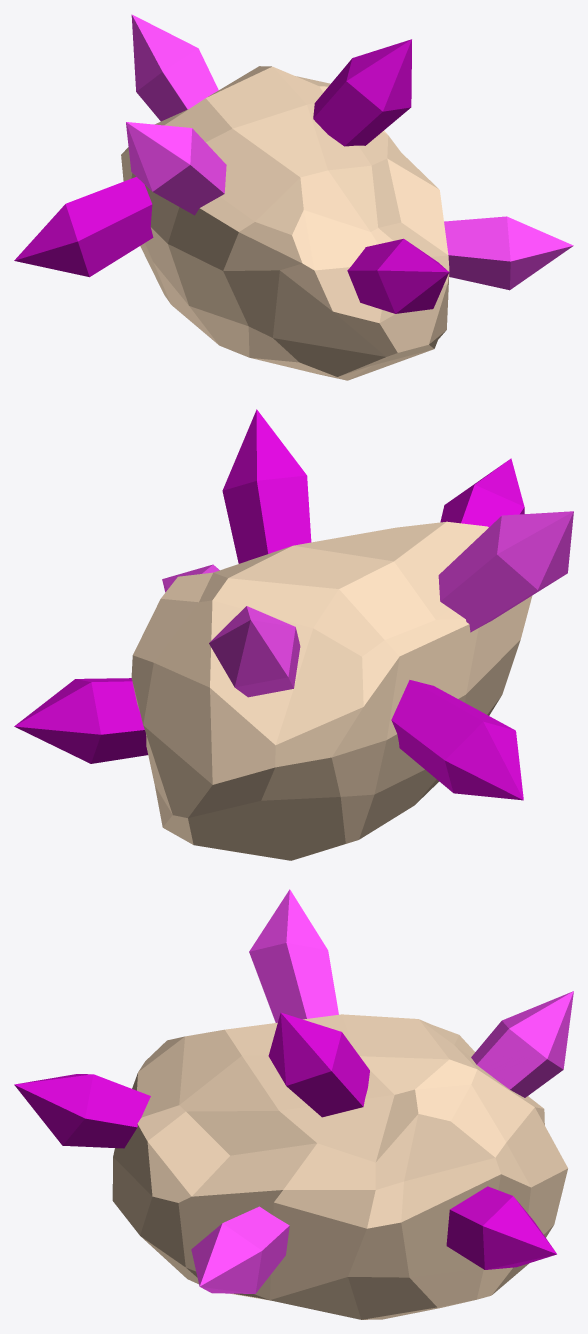
File: MineralNode_01_B.fbx
3 views of the same model, one above another, from view 1: azimuth 30°, elevation 25°; view 2: azimuth 150°, elevation 25°; view 3: azimuth 270°, elevation 25° (orthographic). The views are drawn at different scales.
Parts seen in each view (by area): view 1: MineralNode_01_B; view 2: MineralNode_01_B; view 3: MineralNode_01_B.
Part boxes in pixels (<box>): MineralNode_01_B: <box>14,14,573,380</box>; MineralNode_01_B: <box>14,409,573,860</box>; MineralNode_01_B: <box>14,889,573,1319</box>.
Bounding box in the file's own units: 117 × 78.18 × 127.
